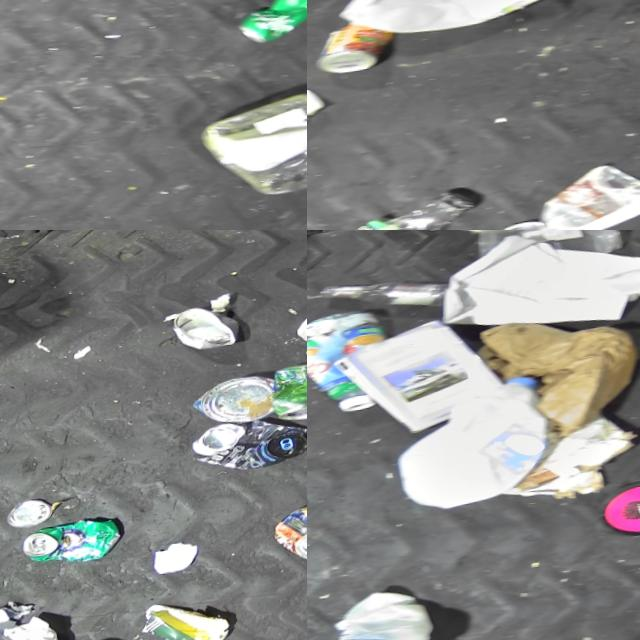can: (193, 419, 307, 482), (25, 520, 128, 572), (314, 23, 399, 81), (194, 379, 279, 434), (237, 0, 307, 60), (168, 308, 242, 359), (272, 371, 307, 432), (276, 510, 307, 572), (11, 499, 58, 531)
milk_jug: (395, 379, 557, 521), (333, 0, 574, 49), (336, 589, 442, 640), (445, 230, 608, 241)
plastic_bottle: (311, 190, 487, 230)
